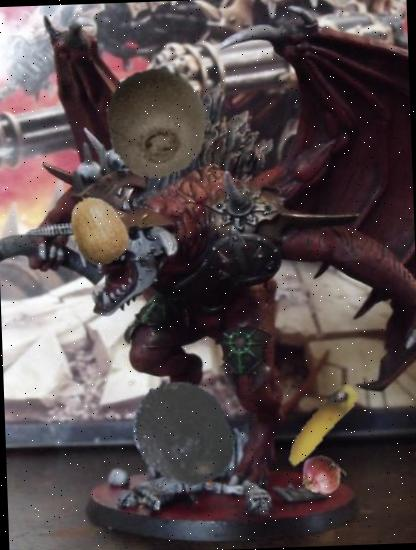Avocado: (126, 376, 242, 493)
Banana: (269, 372, 372, 476)
Kiwi: (98, 65, 212, 180), (61, 192, 137, 268)
Onion: (294, 449, 347, 502)
